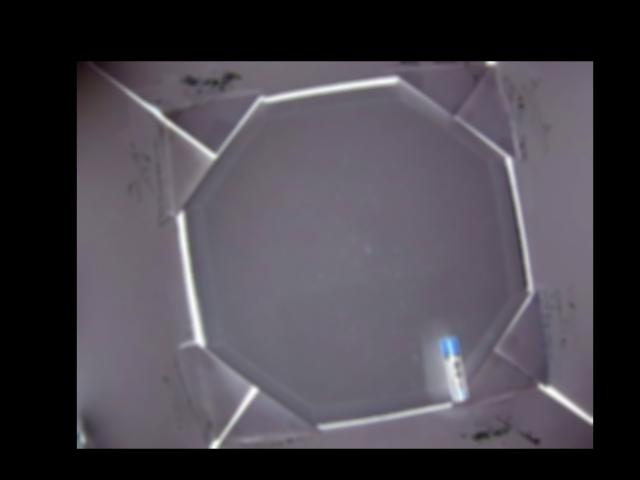Battery: (441, 335, 468, 402)
